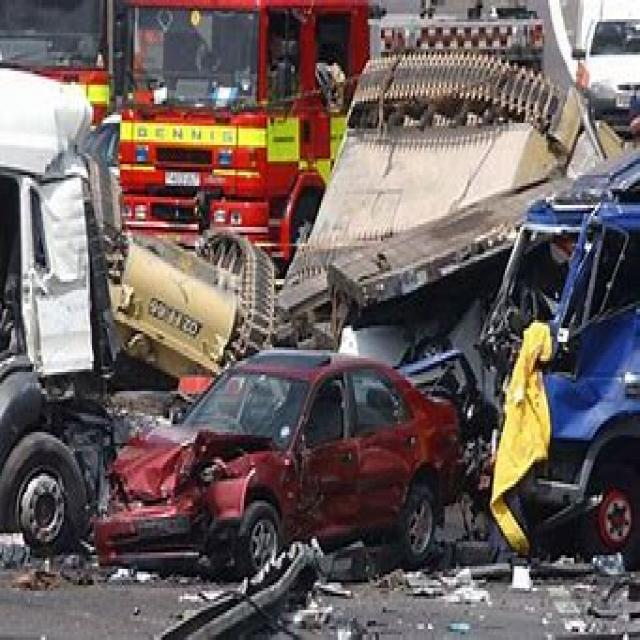Accident: (69, 187, 620, 624)
